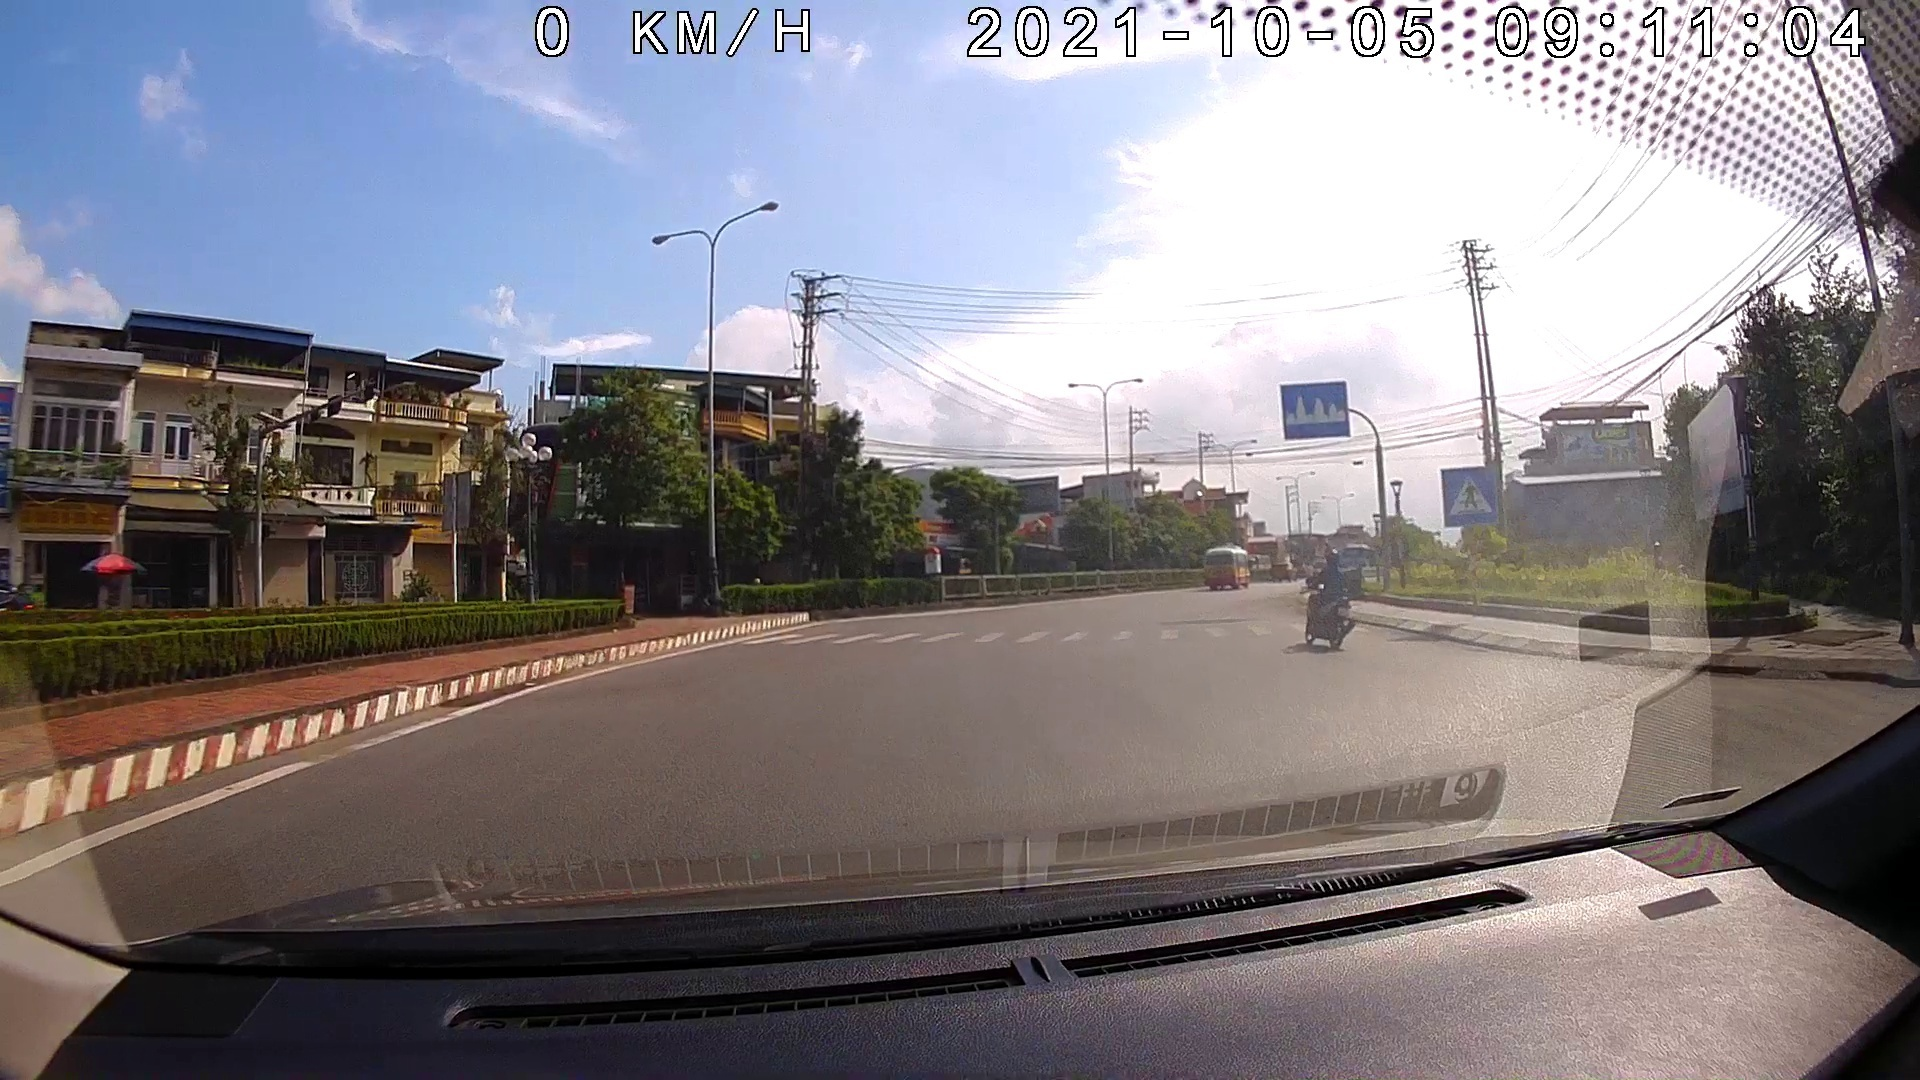Bien khac: (1276, 378, 1352, 442)
Nguoi di bo: (1437, 465, 1501, 527)
